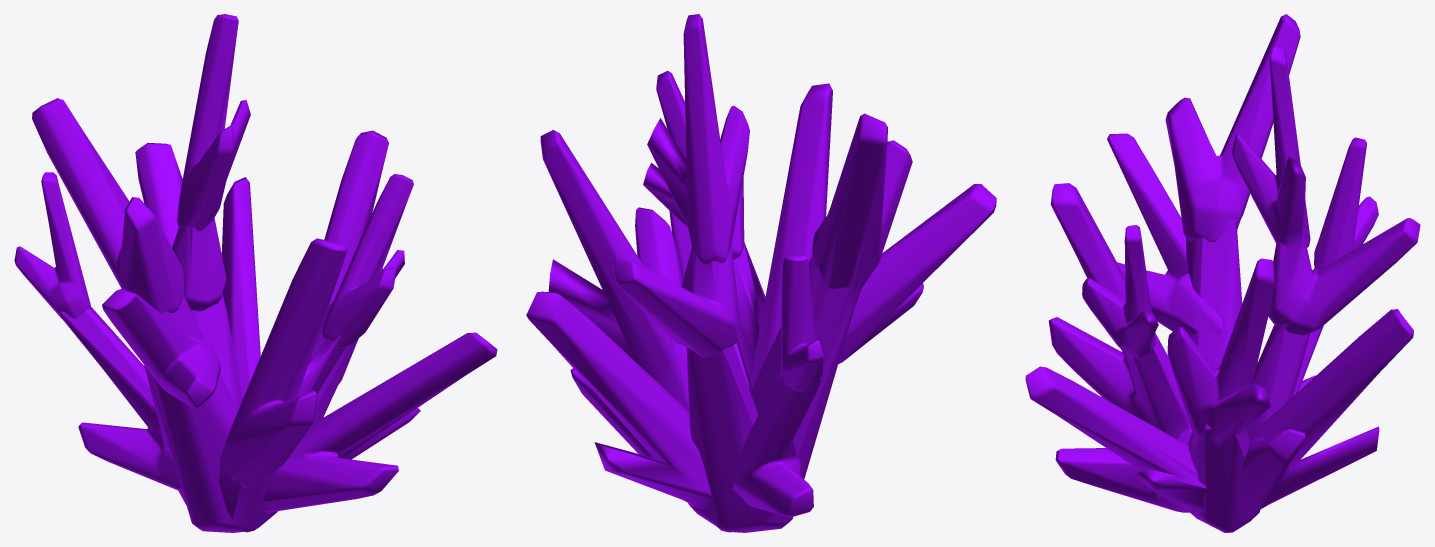
The model's file is coral3.gltf.
3 views of the same model, side by side, from view 1: azimuth 30°, elevation 25°; view 2: azimuth 150°, elevation 25°; view 3: azimuth 270°, elevation 25° (orthographic). The views are drawn at different scales.
Bounding box in the file's own units: 5.91 × 7.9 × 5.83.
